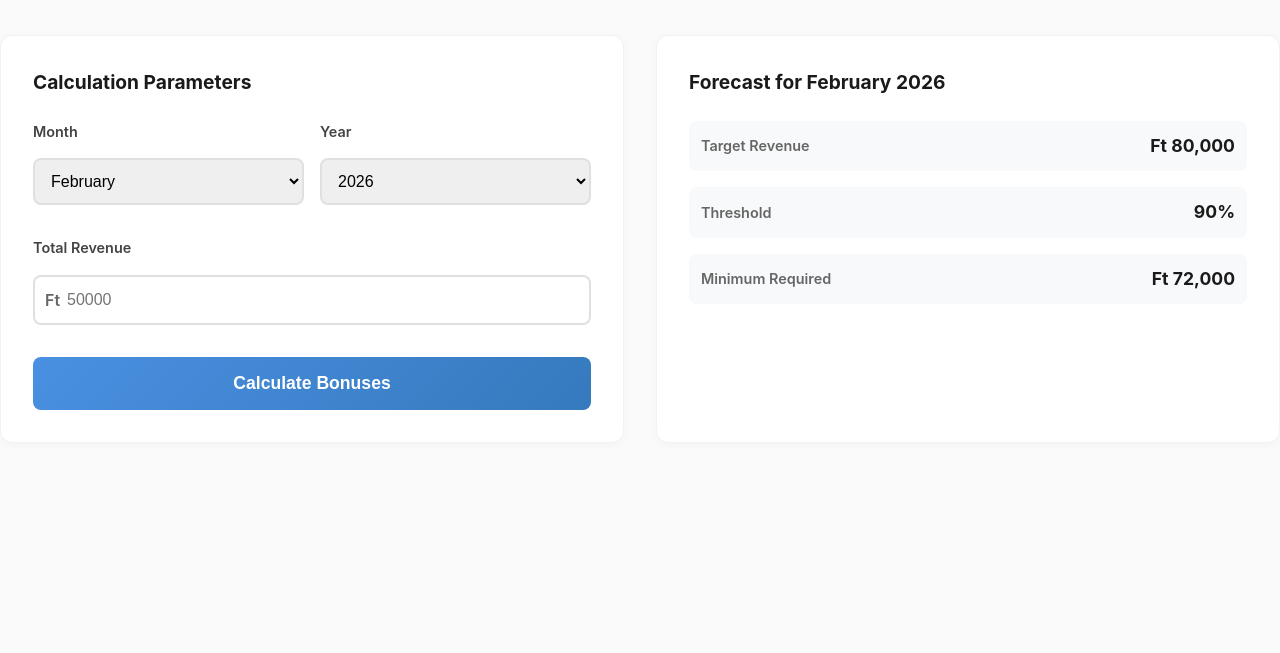
Test: Bonuses Integration Tests › should calculate and display bonuses correctly
This screenshot has width=1280, height=653.
Type "100000" into the number field labelled "Total Revenue". click: (312, 300)
box: [33,275,591,325]
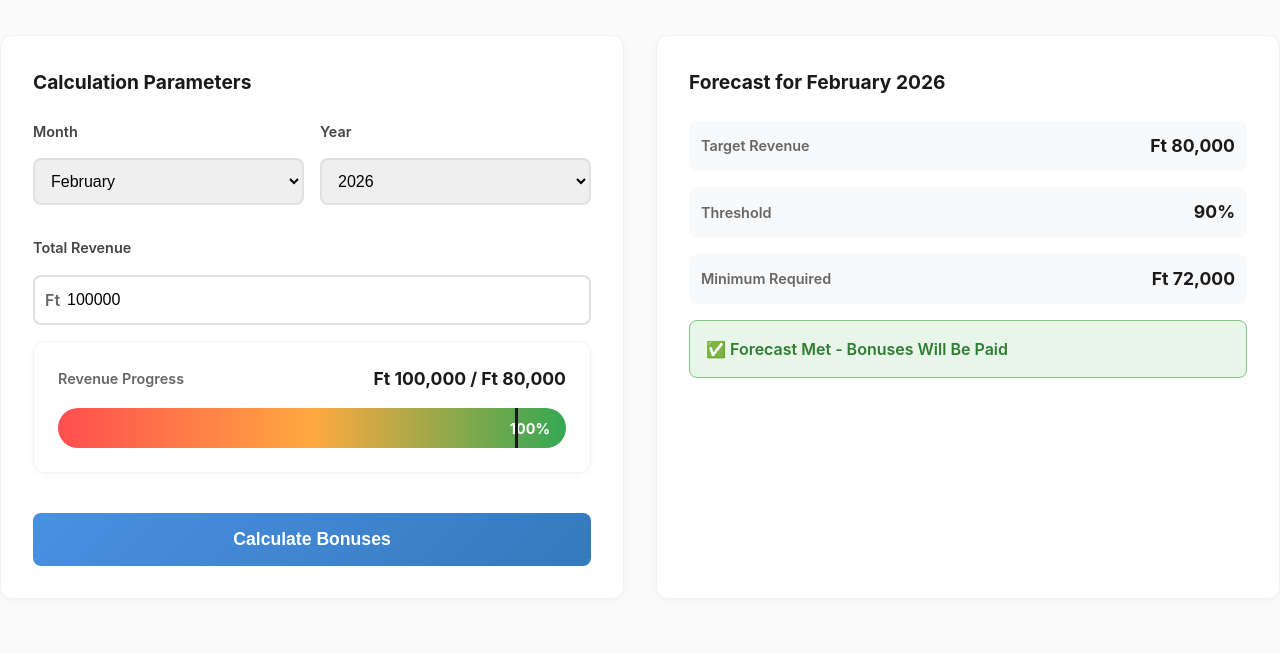
Click the button "Calculate Bonuses". click: (312, 540)
box: [33,513,591,566]
(page scrolled)
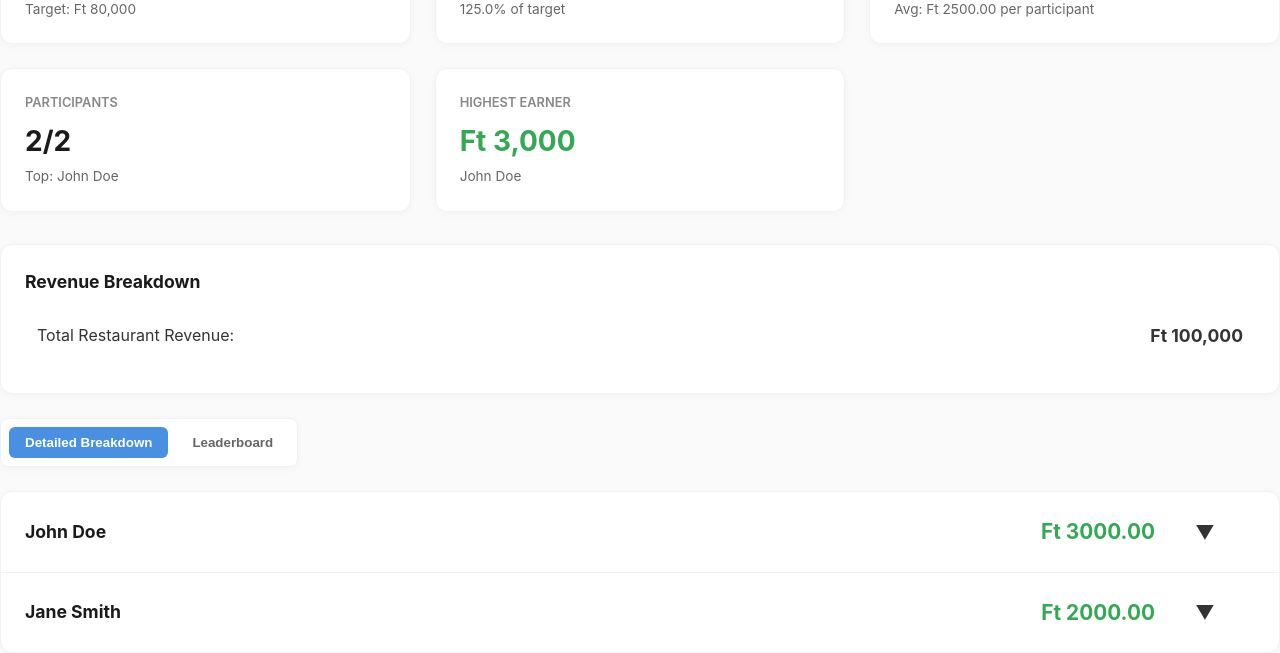
Expected: the text "John Doe" below "Ft 3,000" is shown, [460,168,521,184]
Expected: the text "Jane Smith" is shown, [25,601,121,622]
